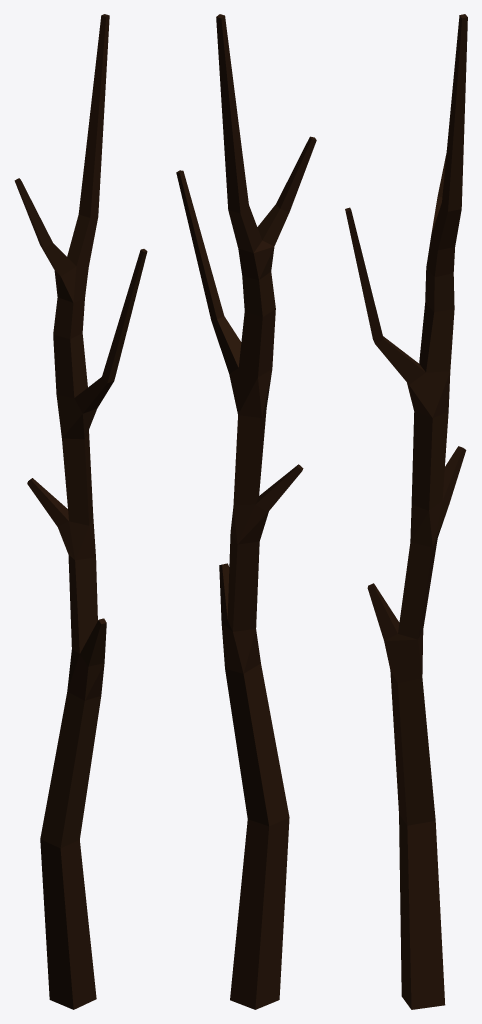
Rendered from Wand.obj.
3 views of the same model, side by side, from view 1: azimuth 30°, elevation 25°; view 2: azimuth 210°, elevation 25°; view 3: azimuth 270°, elevation 25° (orthographic). The views are drawn at different scales.
Parts seen in each view (by area): view 1: Cube; view 2: Cube; view 3: Cube.
Part boxes in pixels (x1,y1,x2,y2): Cube: (14,14,147,1009); Cube: (176,14,316,1009); Cube: (345,14,467,1009).
Size of the model in its own units: 0.0888 by 0.8379 by 0.0922.
